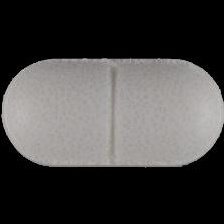63629-2703: (0, 0, 224, 224)
